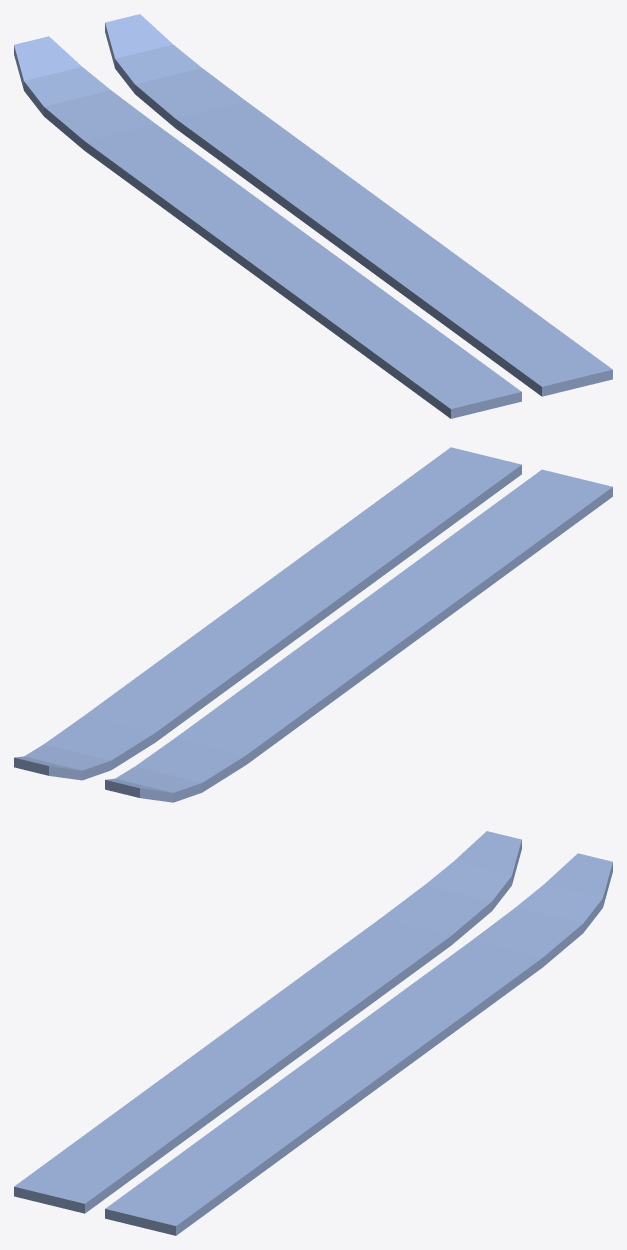
The model's file is planche ski.fbx.
3 views of the same model, one above another, from view 1: azimuth 30°, elevation 25°; view 2: azimuth 150°, elevation 25°; view 3: azimuth 330°, elevation 25° (orthographic).
Visible parts, largest first — view 1: entrepot dechets 6; view 2: entrepot dechets 6; view 3: entrepot dechets 6.
Boxes of the visible parts, x1,y1,x2,y2 form: entrepot dechets 6: [14, 14, 612, 418]; entrepot dechets 6: [14, 447, 612, 802]; entrepot dechets 6: [14, 831, 612, 1235].
Size of the model in its own units: 103 by 22.46 by 503.
